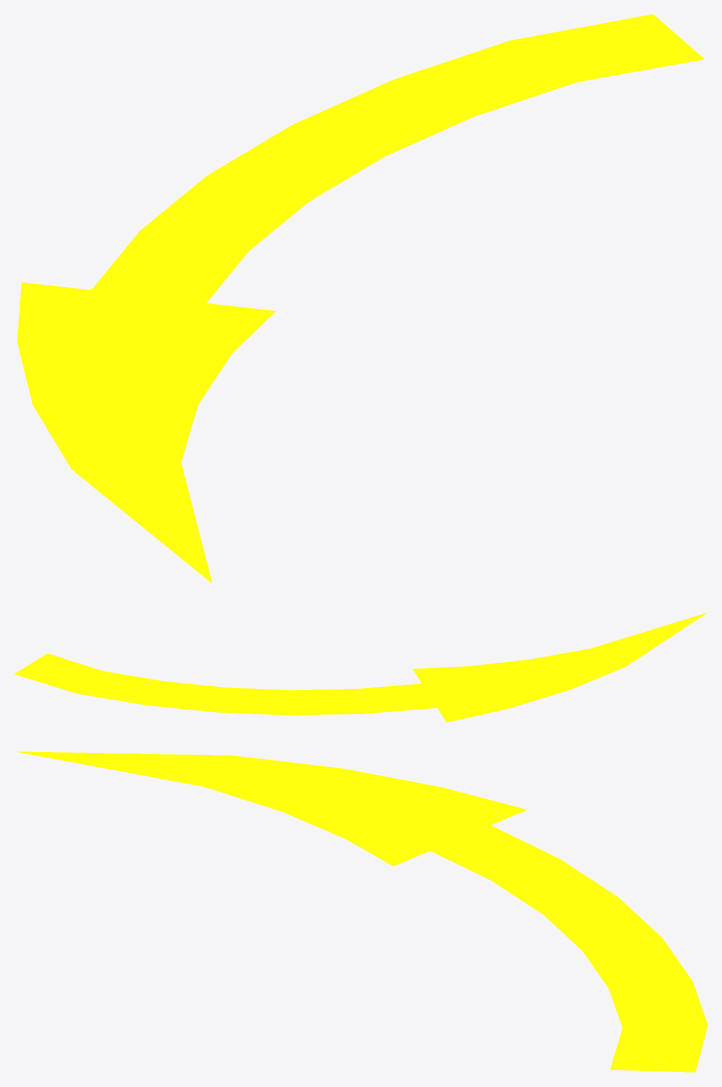
File: Arrow_left_X.glb
The picture shows the model from 3 angles, top to bottom: view 1: azimuth 30°, elevation 25°; view 2: azimuth 150°, elevation 25°; view 3: azimuth 270°, elevation 25°; orthographic projection. The views are drawn at different scales.
Visible parts, largest first — view 1: 平面.024; view 2: 平面.024; view 3: 平面.024.
Boxes of the visible parts, x1,y1,x2,y2 form: 平面.024: [17, 14, 704, 583]; 平面.024: [14, 612, 707, 722]; 平面.024: [14, 751, 707, 1072].
Bounding box in the file's own units: 4.37 × 0 × 4.
1 material, 1 textured.
